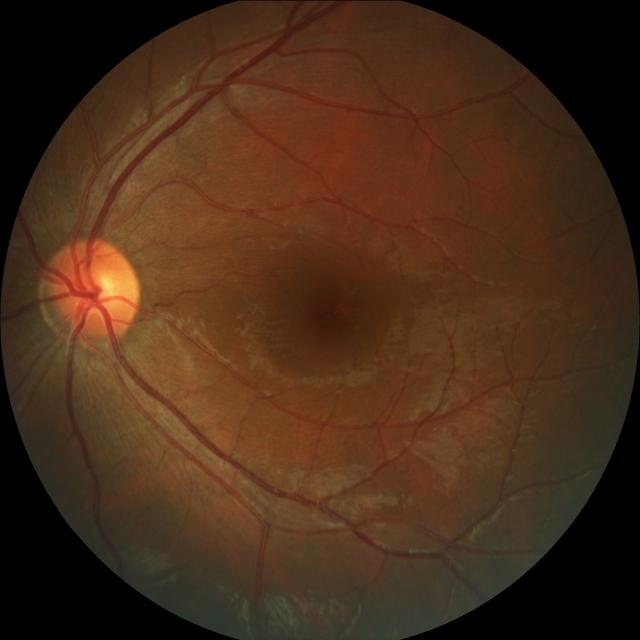OC: (80, 270, 120, 312)
OD: (50, 235, 140, 340)
